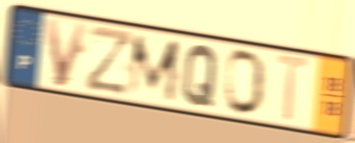M: (125, 33, 183, 105)
O: (223, 47, 268, 118)
Q: (180, 42, 221, 110)
T: (272, 51, 315, 125)
V: (43, 16, 91, 91)
Z: (83, 23, 135, 97)
